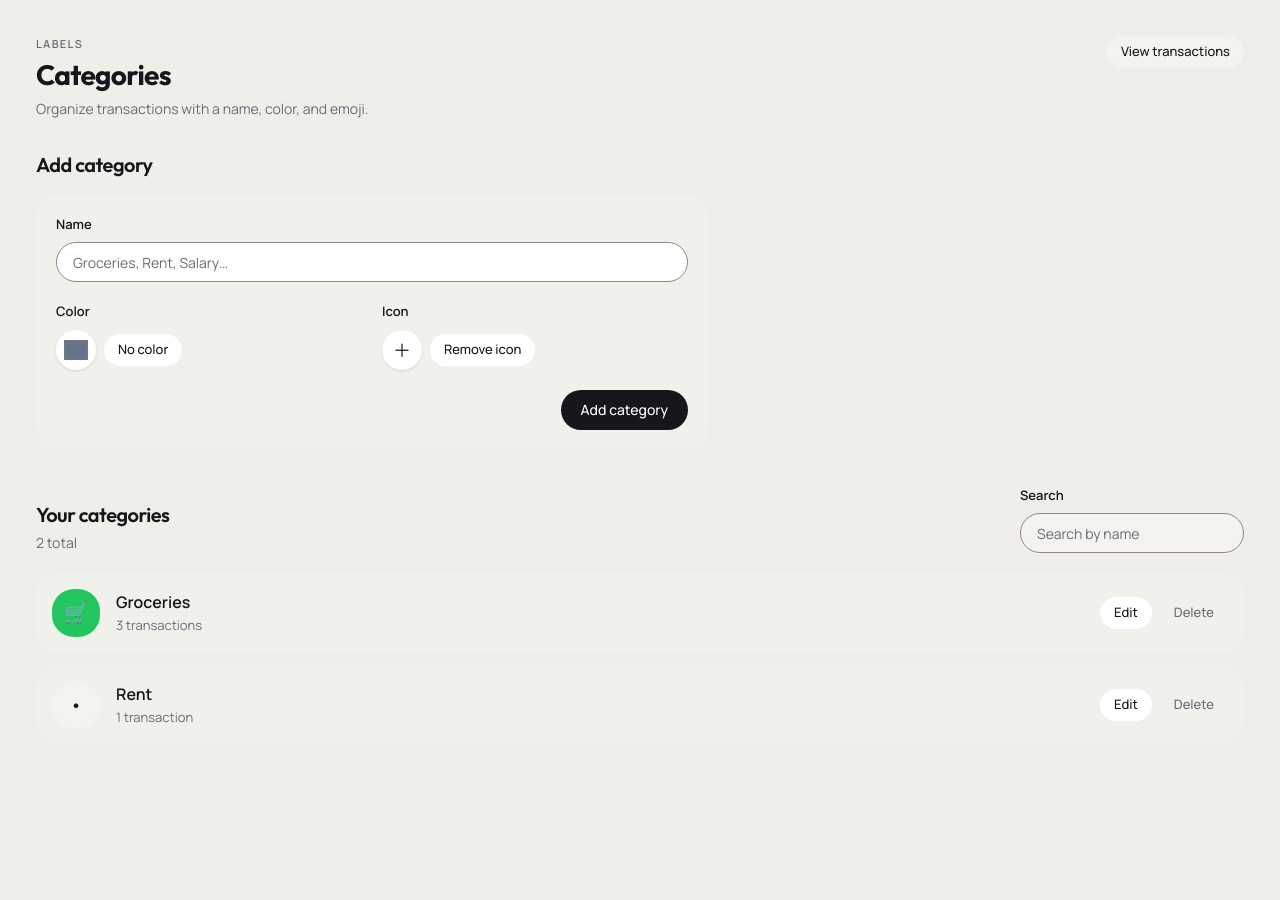
Test: CategoriesPage › delete confirmation dialog › closes on Escape and returns focus to the Delete button that opened it
Expected: the text "Rent" is shown, top-left (116, 683), bottom-right (152, 705)
Click the button "Delete" in the row of "Rent".
click(1194, 705)  # box top-left (1160, 689), bottom-right (1228, 721)
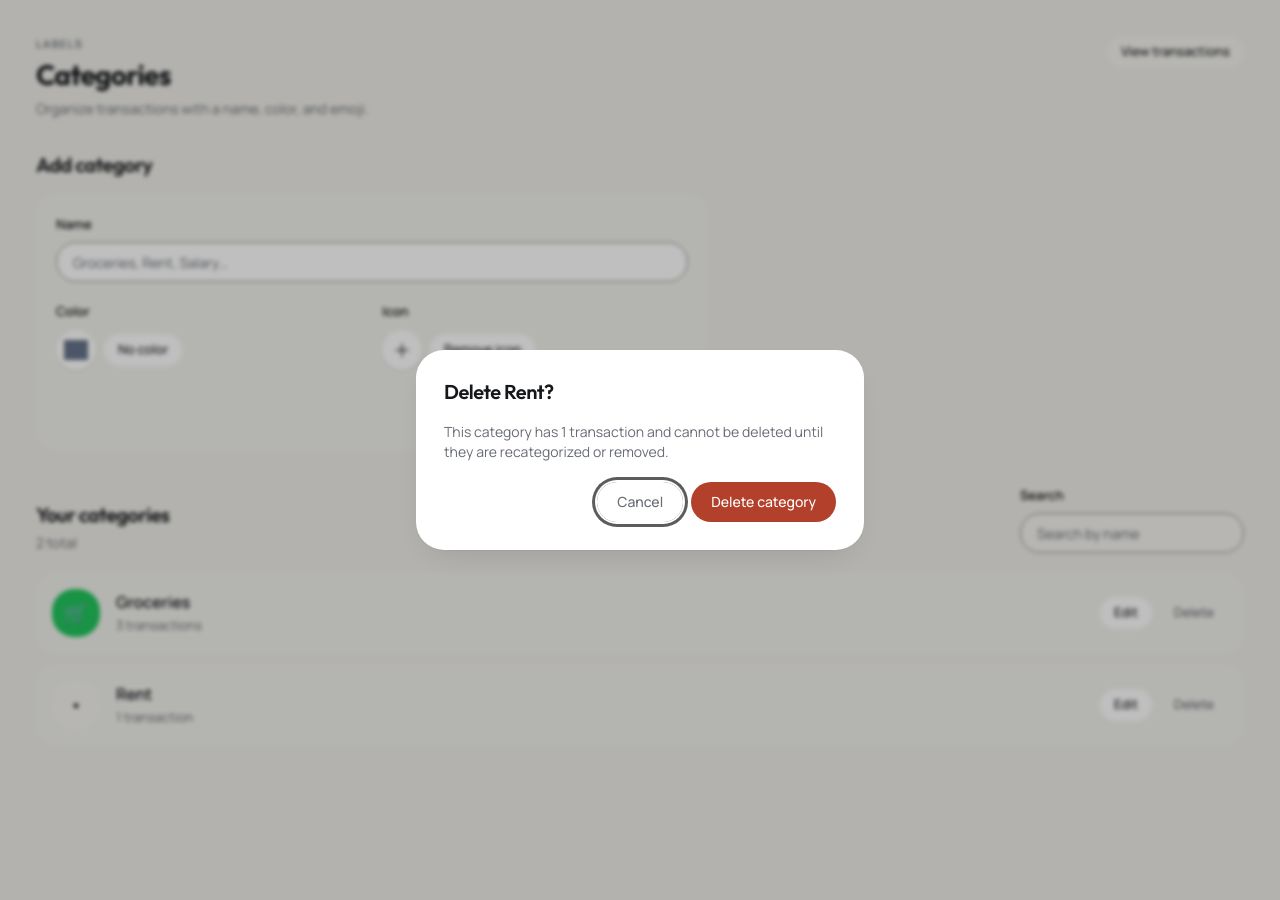
Expected: the dialog is shown, top-left (416, 350), bottom-right (864, 550)
Press Escape
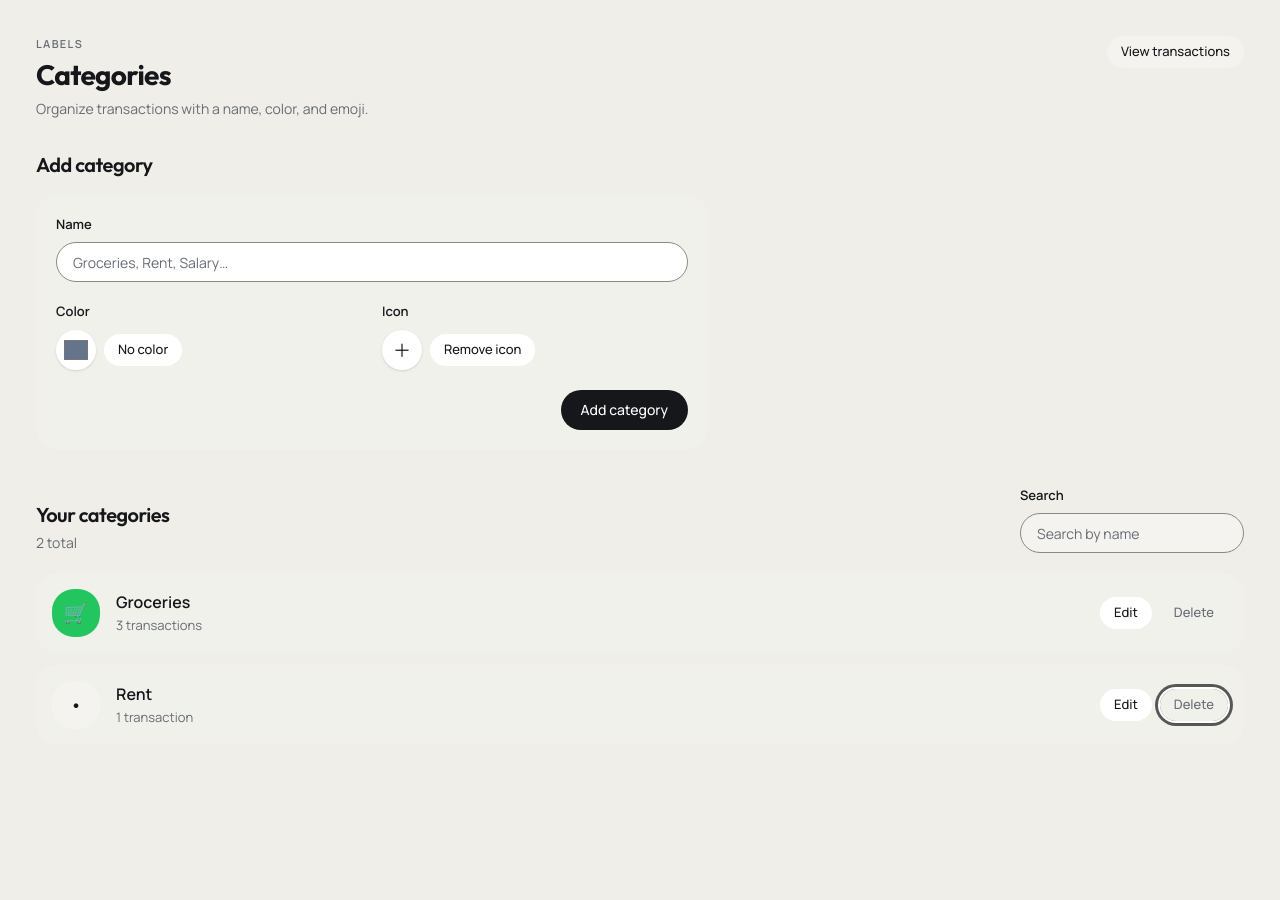
Expected: the dialog is gone
